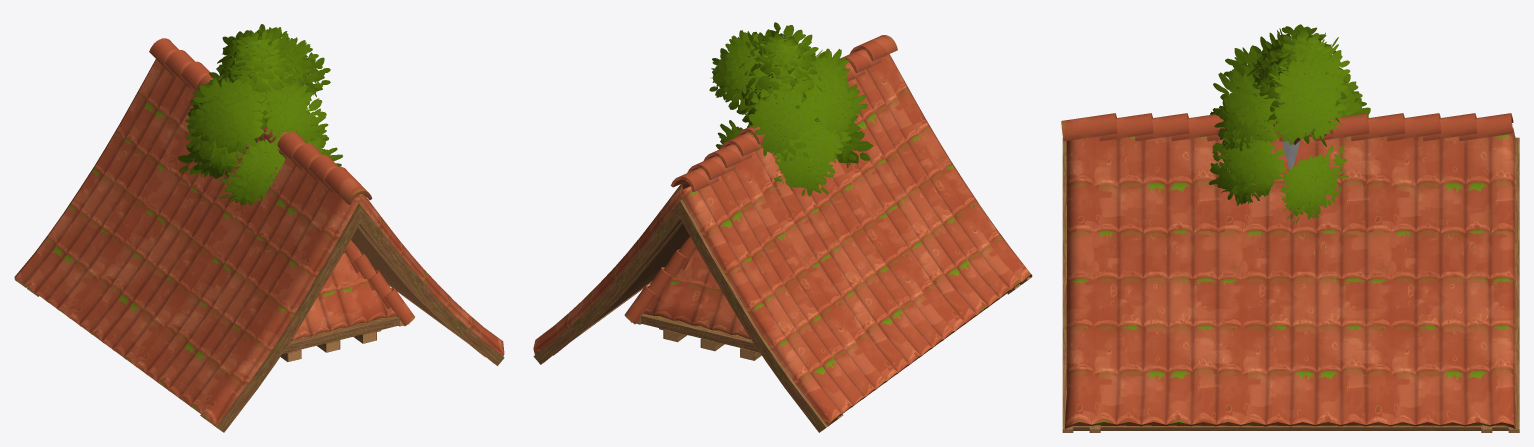
Rendered from praca.glb.
The picture shows the model from 3 angles, left to right: view 1: azimuth 30°, elevation 25°; view 2: azimuth 150°, elevation 25°; view 3: azimuth 270°, elevation 25°; orthographic projection. The views are drawn at different scales.
Parts seen in each view (by area): view 1: Roof_RoundTiles_6x8, CommonTree_1, Roof_Tower_RoundTiles; view 2: Roof_RoundTiles_6x8, CommonTree_1, Roof_Tower_RoundTiles; view 3: Roof_RoundTiles_6x8, CommonTree_1.
Part boxes in pixels (x1=…): Roof_RoundTiles_6x8: x1=14, y1=38, x2=504, y2=432; CommonTree_1: x1=178, y1=24, x2=342, y2=205; Roof_Tower_RoundTiles: x1=242, y1=39, x2=414, y2=361; Roof_RoundTiles_6x8: x1=533, y1=35, x2=1032, y2=432; CommonTree_1: x1=709, y1=22, x2=873, y2=196; Roof_Tower_RoundTiles: x1=624, y1=31, x2=786, y2=360; Roof_RoundTiles_6x8: x1=1061, y1=113, x2=1519, y2=432; CommonTree_1: x1=1209, y1=24, x2=1370, y2=225.
Bounding box in the file's own units: 8.25 × 9.14 × 9.68.
18 materials, 17 textured.
